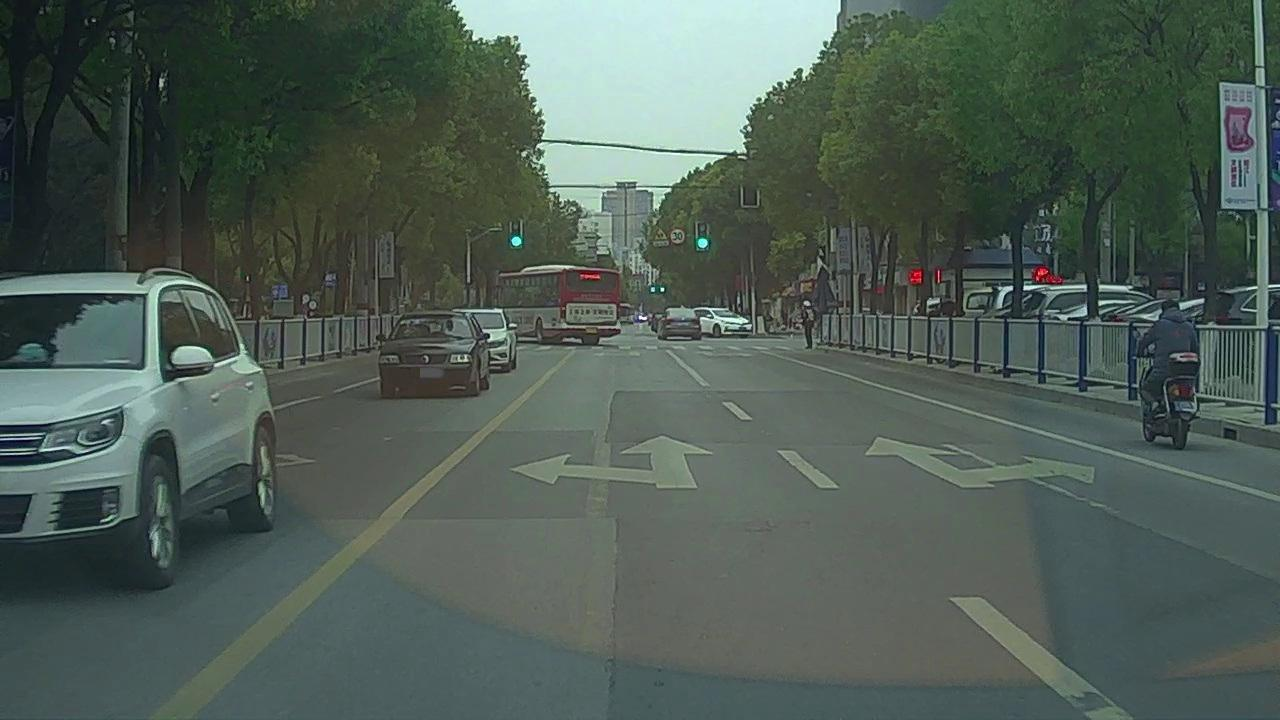traffic_light: (510, 219, 523, 248), (697, 222, 709, 250)
